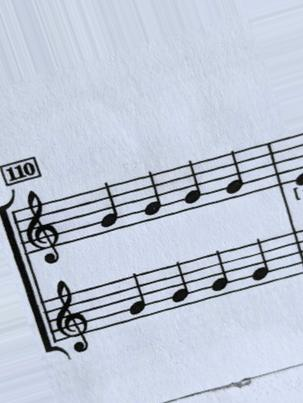G: (136, 167, 179, 223), (91, 181, 132, 235), (176, 161, 212, 215), (165, 254, 194, 316), (218, 150, 252, 200), (249, 228, 274, 294), (120, 271, 149, 324), (208, 243, 233, 300)
